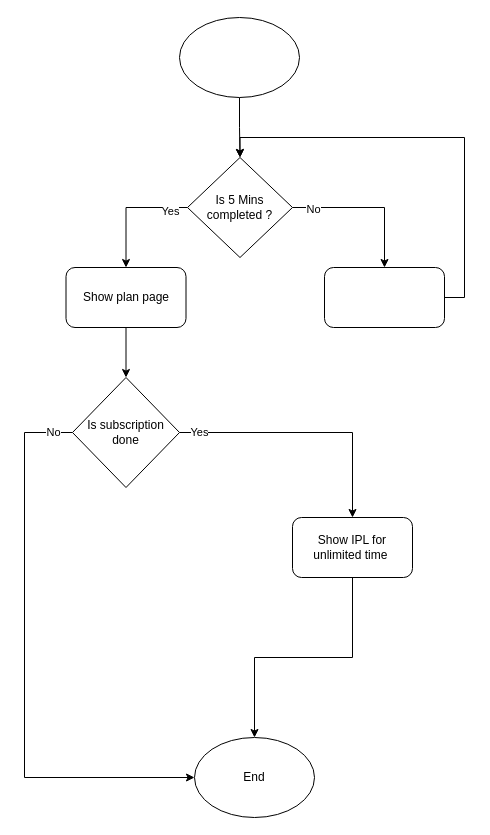
Some shapes in this 490 by 835 pixel diagram are drawn without their labels. The centre of each missing label's shape, as x and y in pixels:
Show IPL for 5 mins: the point at 384,297
Start: the point at 239,57
